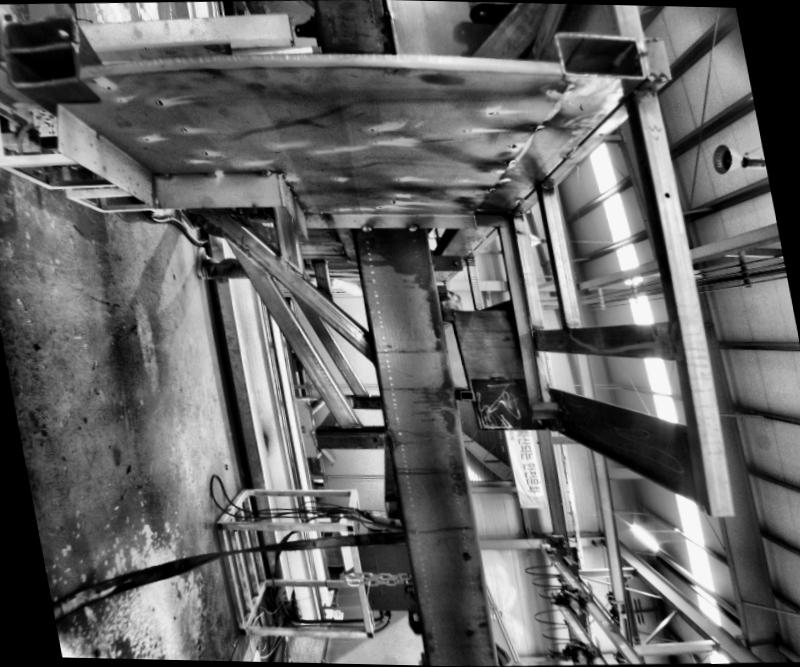hole: (660, 190, 672, 200), (459, 552, 466, 559), (369, 438, 376, 444), (632, 340, 639, 346)
welding: (195, 166, 222, 182), (152, 167, 172, 180), (401, 223, 420, 233), (251, 168, 270, 176), (358, 223, 370, 234)
